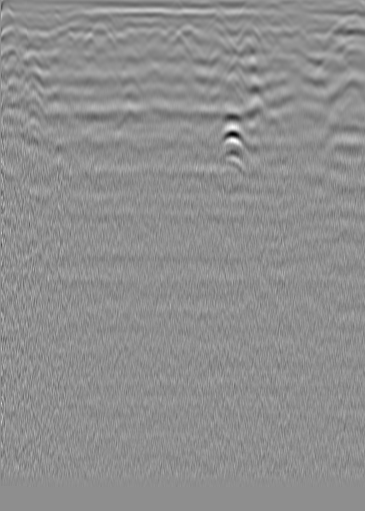가스: (213, 107, 247, 146)
상수: (303, 26, 323, 46)
오수: (24, 29, 44, 49)
우수: (165, 15, 208, 47)
